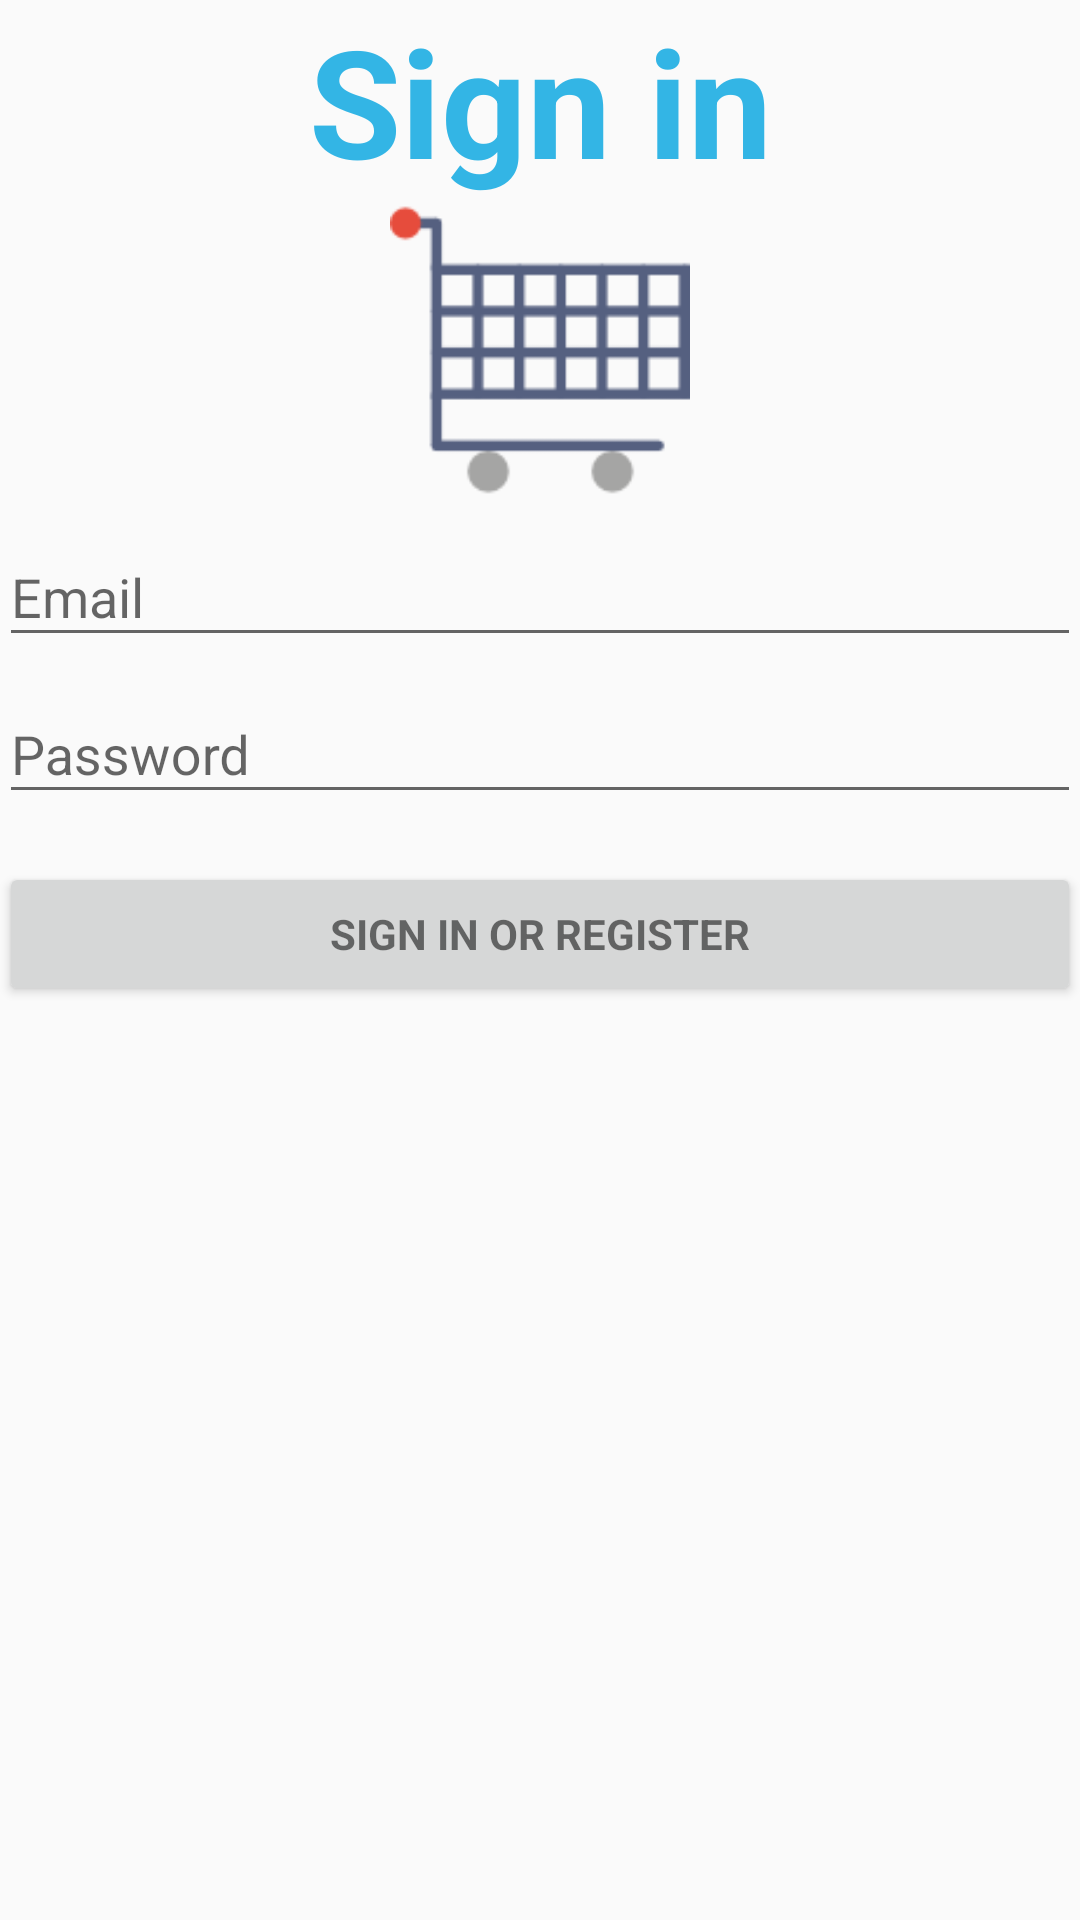

Locate icon controls on the screen. Image size 1080 × 1920, boxes as (x1, y1, x2, y2).
cart: (390, 206, 690, 493)
